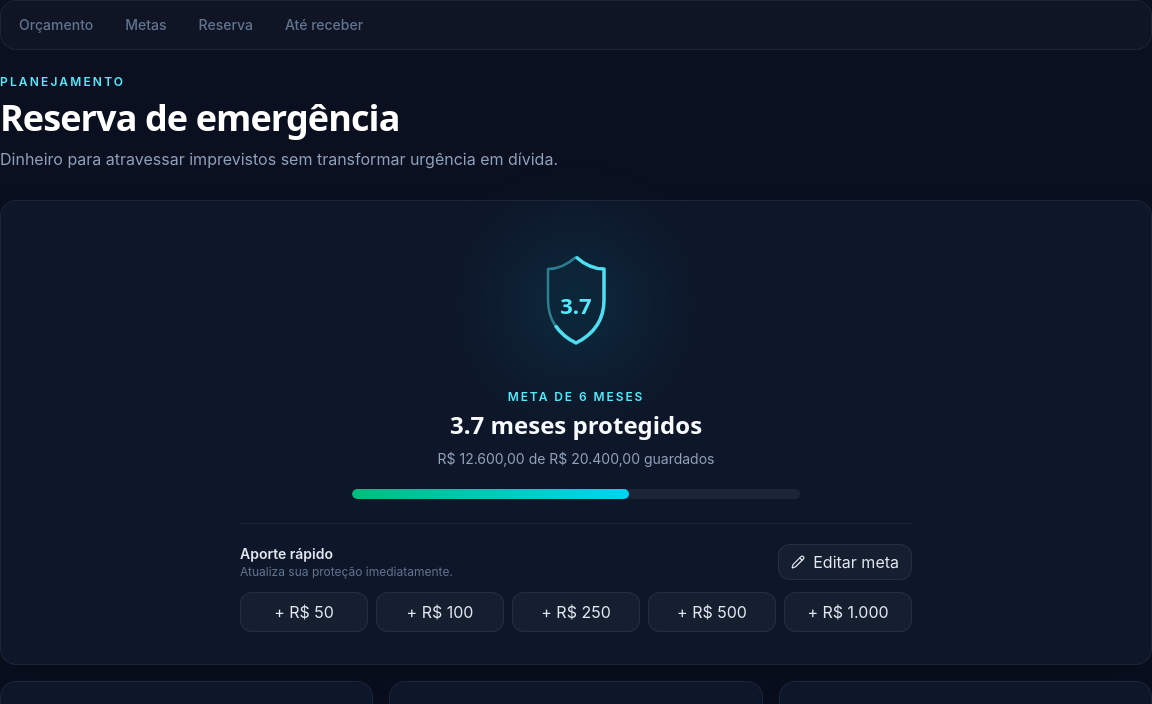
edits the independent reserve target
Click the button with aria-label "editar meta da reserva": click(845, 562) [778, 544, 912, 580]
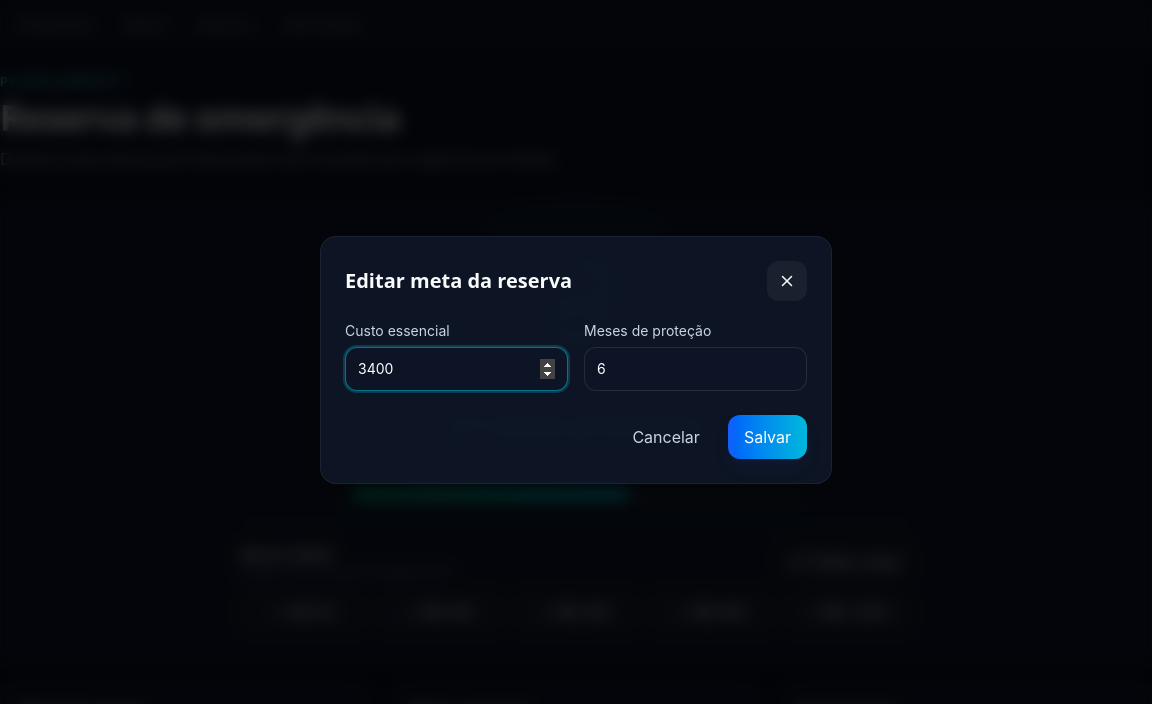
Replace the text in the number field labelled "Meses de proteção" with "8": (696, 369) [584, 347, 807, 391]
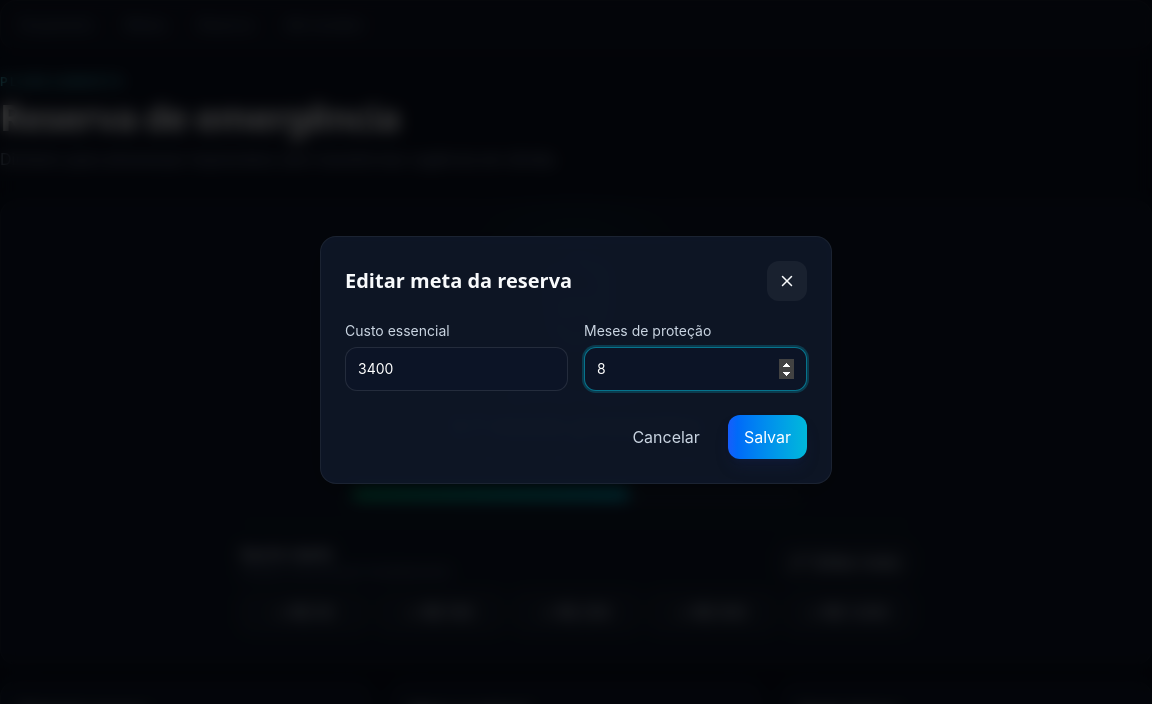
Click the button "Salvar": click(767, 437) [728, 415, 807, 459]
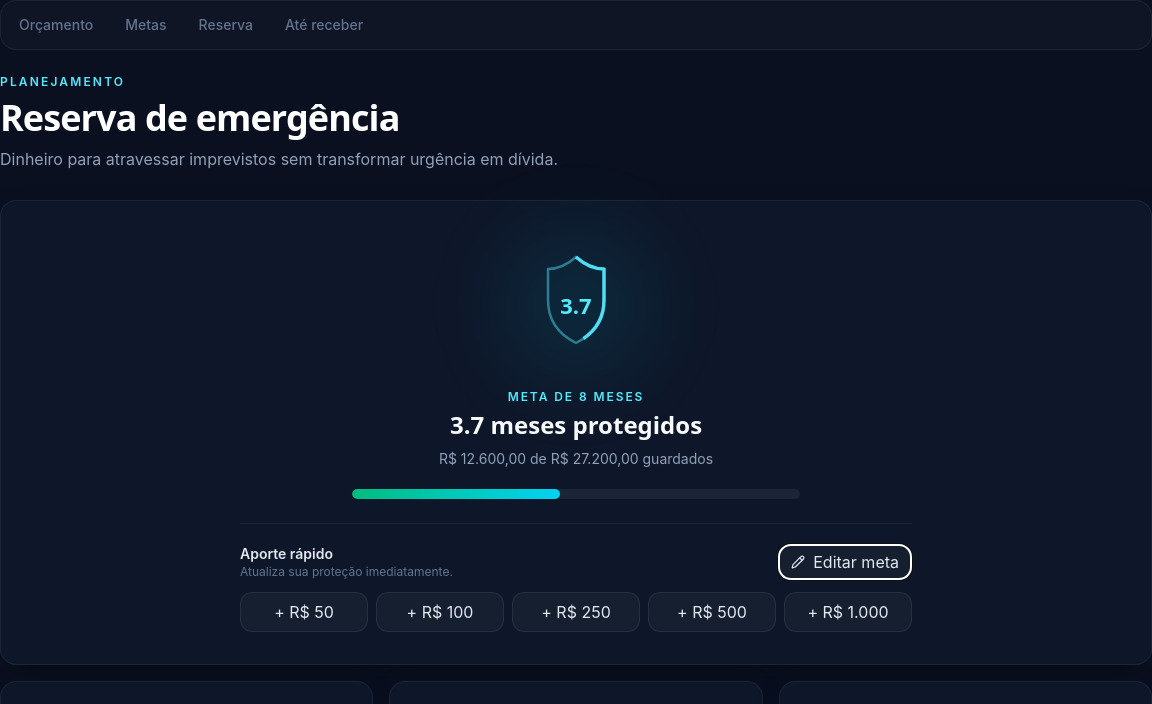
Check: the text "R$ 12.600,00 de R$ 27.200,00 guardados" is shown, box [439, 450, 713, 467]
Check: the text "Meta de 8 meses" is shown, box [508, 389, 644, 404]
